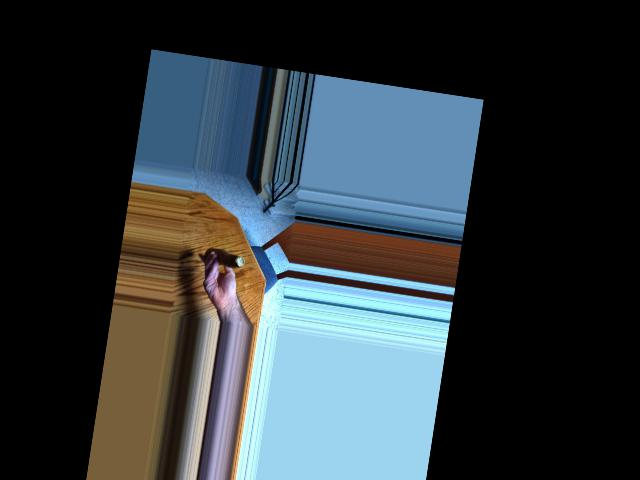sweet_potato: (205, 247, 239, 269)
